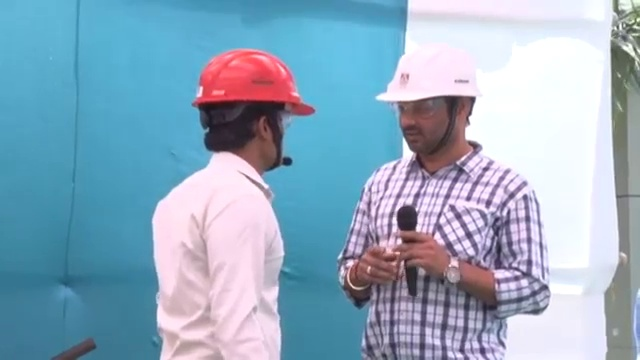helmet: (193, 47, 317, 117), (373, 39, 484, 105)
helmet_on: (191, 46, 320, 180), (371, 38, 488, 168)
person: (337, 39, 553, 360), (147, 49, 319, 360)
